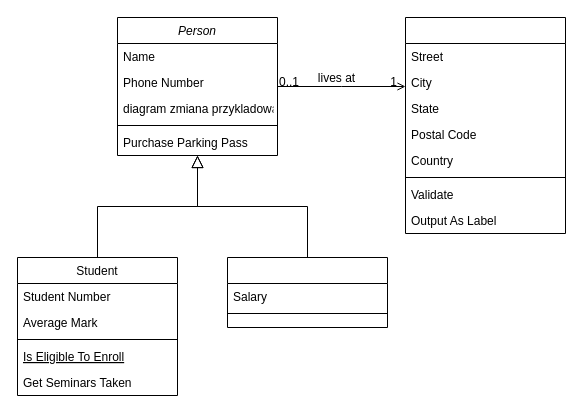
Some shapes in this 583 by 416 pixel diagram are drawn without their labels. Here are the shapes that lost their labels. From the top down, the box of each, then its label:
(404, 16, 566, 234): Address
(226, 256, 388, 328): Professor
